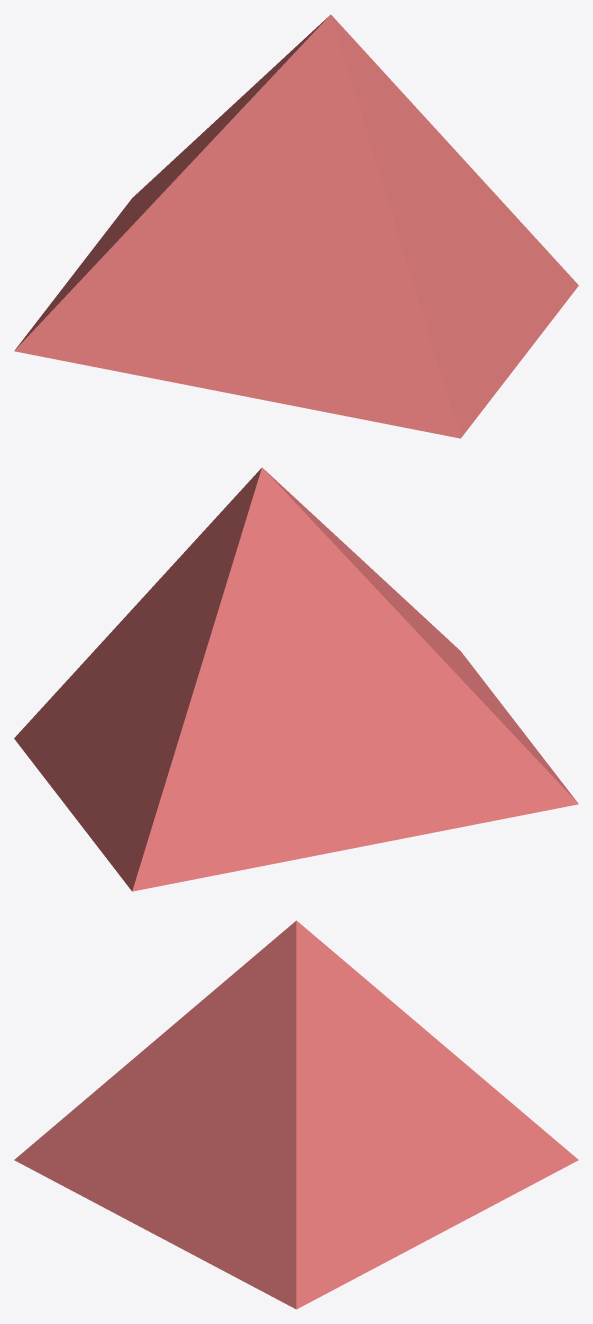
3 views of the same model, one above another, from view 1: azimuth 30°, elevation 25°; view 2: azimuth 150°, elevation 25°; view 3: azimuth 270°, elevation 25° (orthographic). The views are drawn at different scales.
Visible parts, largest first — view 1: Cone; view 2: Cone; view 3: Cone.
Part boxes in pixels (<box>): Cone: <box>14,14,578,438</box>; Cone: <box>14,467,578,891</box>; Cone: <box>14,920,578,1309</box>.
Size of the model in its own units: 1.99 by 1.11 by 2.
